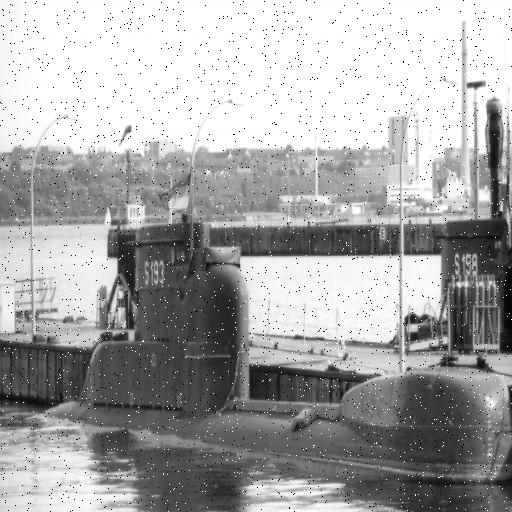submarine: (42, 222, 512, 482)
